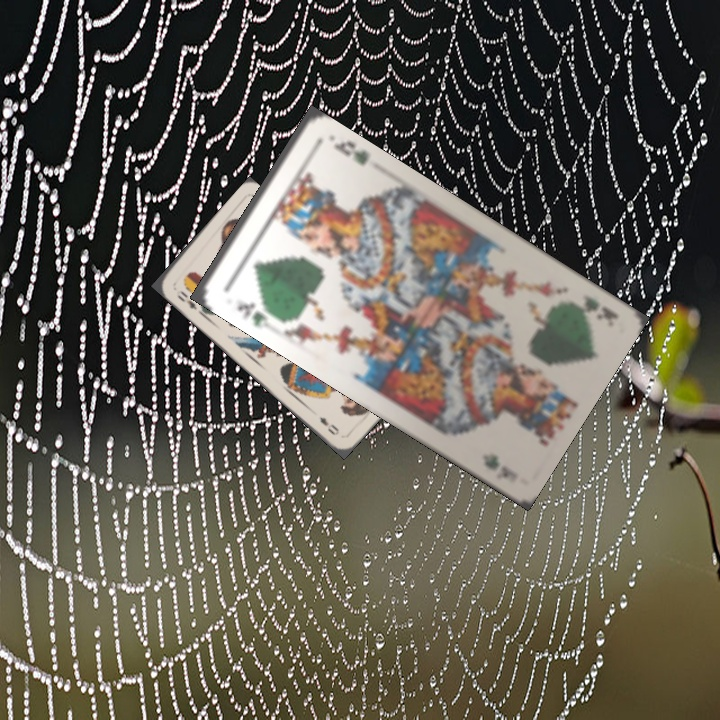EO: (172, 286, 200, 313)
GK: (578, 290, 620, 329), (233, 298, 271, 332)
